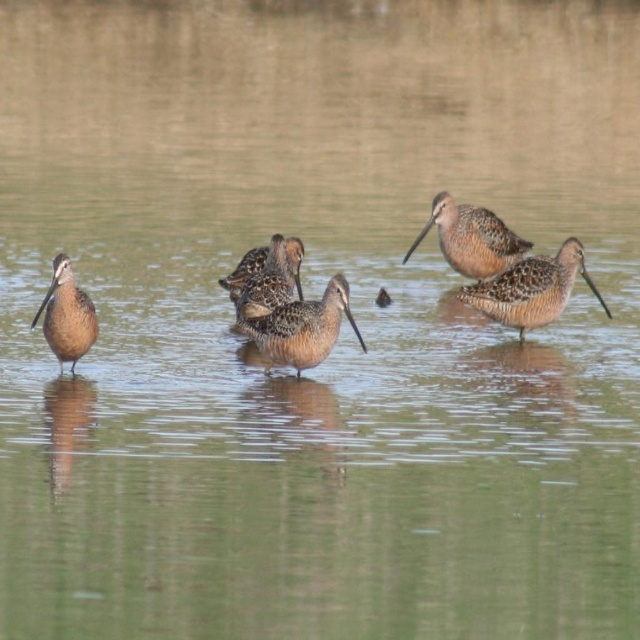Duck: (456, 237, 613, 340), (238, 270, 367, 391), (402, 192, 530, 292), (30, 249, 102, 388), (236, 237, 309, 327)
